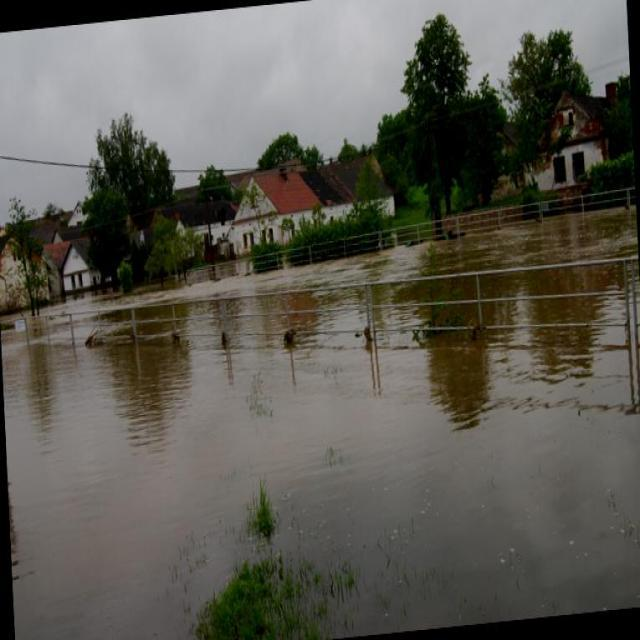flood: (0, 219, 639, 639)
